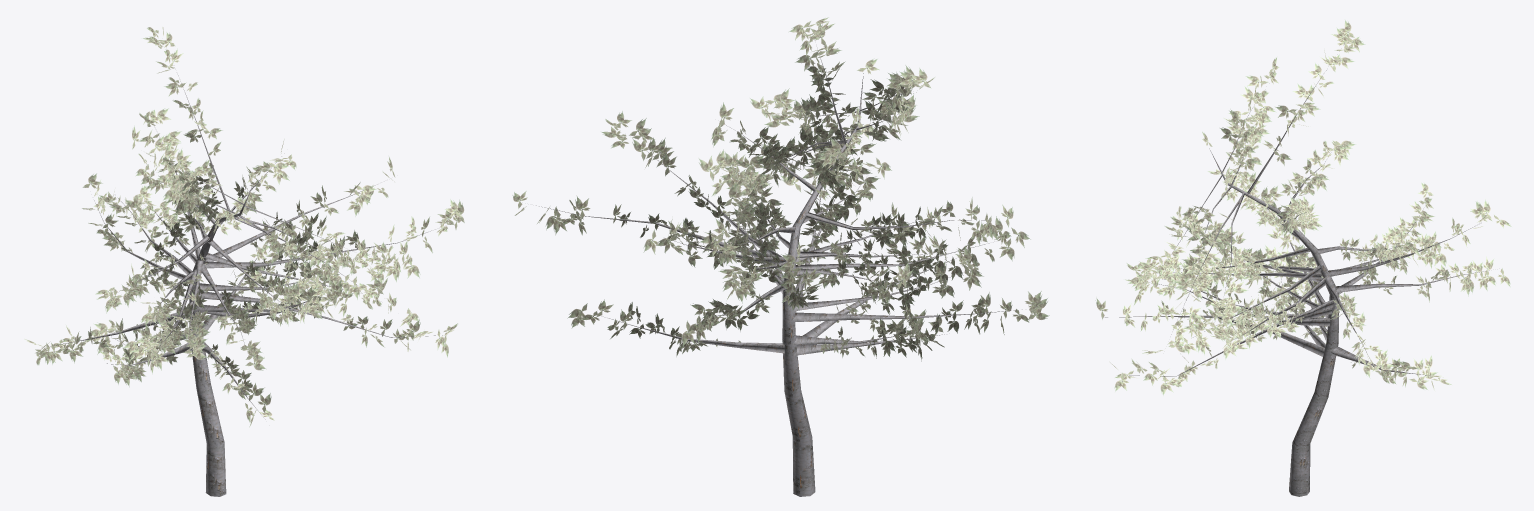
File: frozen.obj
The picture shows the model from 3 angles, left to right: view 1: azimuth 30°, elevation 25°; view 2: azimuth 150°, elevation 25°; view 3: azimuth 270°, elevation 25°; orthographic projection. The views are drawn at different scales.
Visible parts, largest first — view 1: trunk; view 2: trunk; view 3: trunk.
Boxes of the visible parts, bbox=[...] form: trunk: bbox=[24, 27, 464, 496]; trunk: bbox=[512, 17, 1049, 496]; trunk: bbox=[1095, 19, 1511, 496].
Size of the model in its own units: 23.24 by 23.86 by 20.49.
